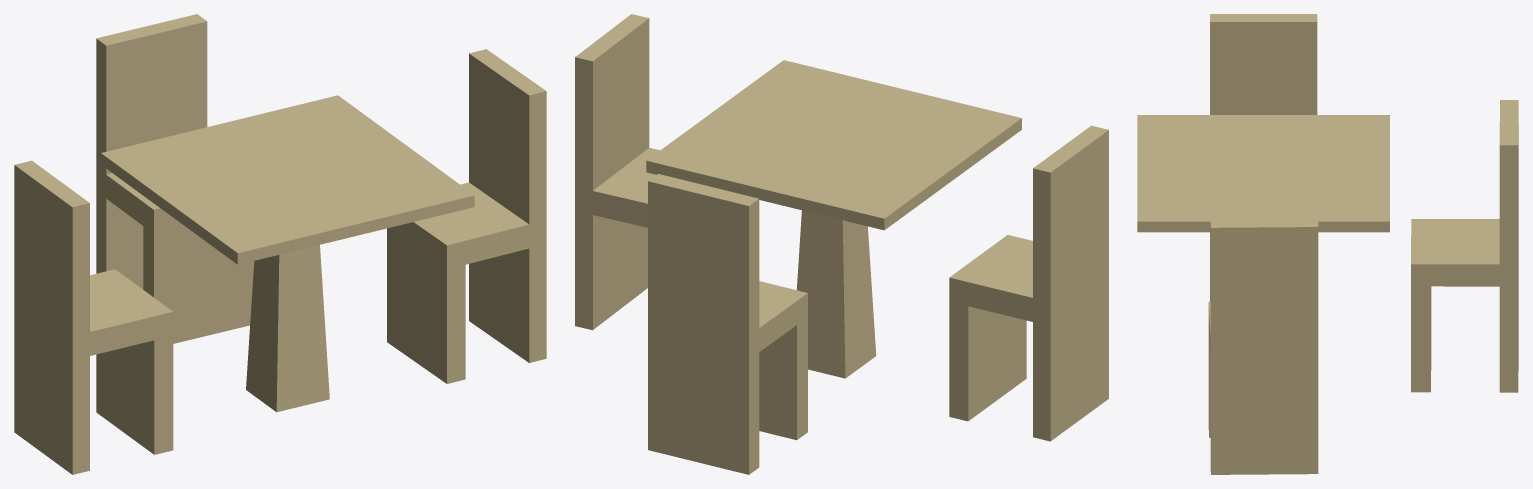
File: tablechairs.fbx
3 views of the same model, side by side, from view 1: azimuth 30°, elevation 25°; view 2: azimuth 150°, elevation 25°; view 3: azimuth 270°, elevation 25° (orthographic). The views are drawn at different scales.
Visible parts, largest first — view 1: pasted__pCube2 (×2), pCube1, pCube2; view 2: pasted__pCube2 (×2), pCube1, pCube2; view 3: pasted__pCube2 (×2), pCube1, pCube2.
Part boxes in pixels (box(x1,y1,x2,y2)): pasted__pCube2 (×2): box(96, 14, 546, 383); pCube1: box(101, 95, 474, 412); pCube2: box(14, 160, 173, 474); pasted__pCube2 (×2): box(575, 14, 807, 474); pCube1: box(646, 60, 1021, 378); pCube2: box(949, 125, 1108, 441); pasted__pCube2 (×2): box(1208, 100, 1518, 474); pCube1: box(1137, 115, 1389, 232); pCube2: box(1210, 14, 1317, 301).
Bounding box in the file's own units: 8.92 × 4.81 × 6.72.
